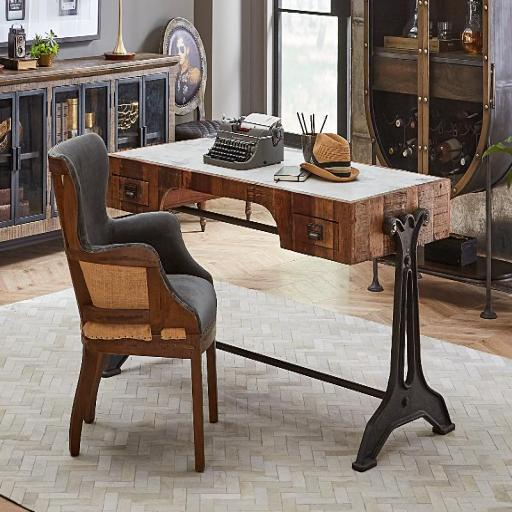table: (105, 117, 459, 470)
